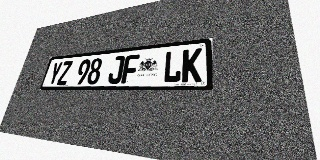8: (86, 58, 104, 84)
9: (75, 59, 92, 85)
F: (121, 54, 140, 84)
J: (107, 56, 125, 84)
K: (181, 48, 202, 82)
L: (162, 50, 183, 83)
Y: (47, 62, 63, 85)
Z: (57, 61, 73, 85)
